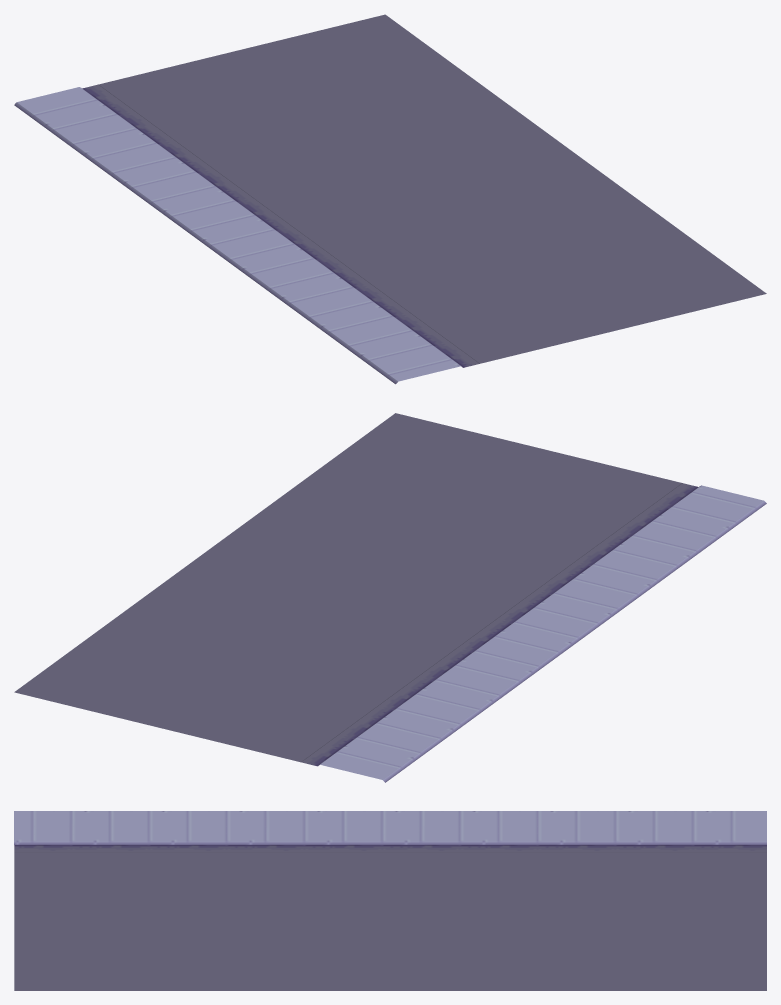
The model's file is MiddleRightRoad.fbx.
3 views of the same model, one above another, from view 1: azimuth 30°, elevation 25°; view 2: azimuth 150°, elevation 25°; view 3: azimuth 270°, elevation 25° (orthographic).
Visible parts, largest first — view 1: Cube.020; view 2: Cube.020; view 3: Cube.020.
Boxes of the visible parts, x1,y1,x2,y2 form: Cube.020: [14, 14, 766, 384]; Cube.020: [14, 413, 766, 782]; Cube.020: [14, 811, 766, 990].
Bounding box in the file's own units: 544 × 3.14 × 969.
